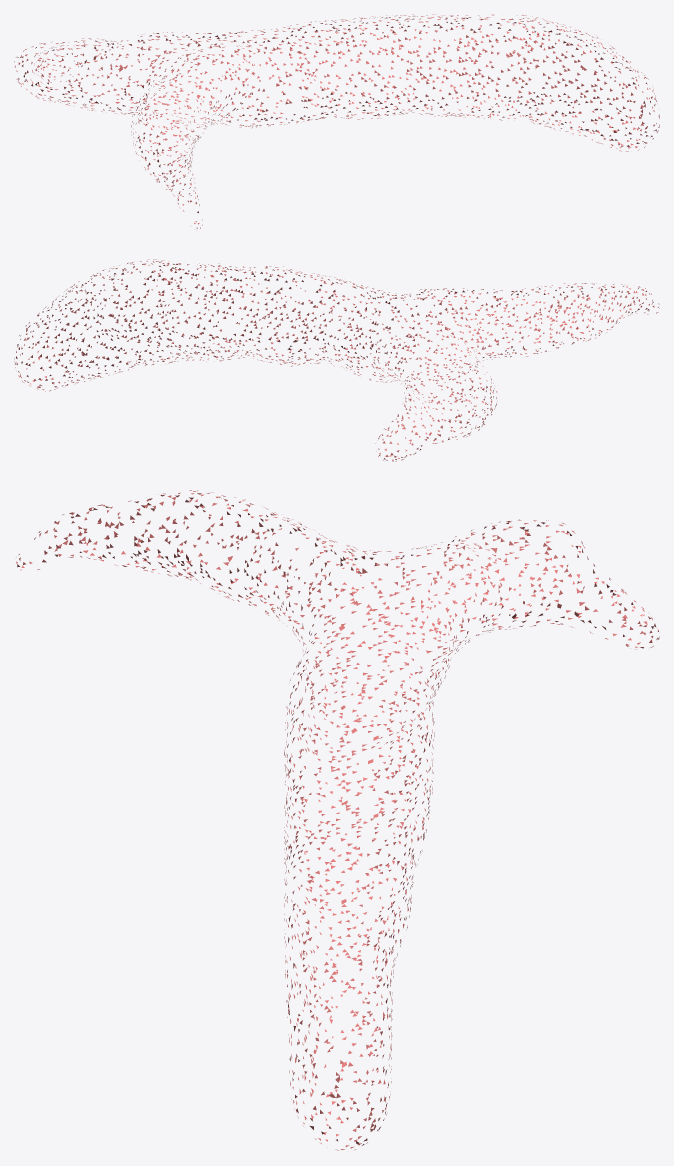
Rendered from morph_000.glb.
3 views of the same model, one above another, from view 1: azimuth 30°, elevation 25°; view 2: azimuth 150°, elevation 25°; view 3: azimuth 270°, elevation 25° (orthographic). The views are drawn at different scales.
Bounding box in the file's own units: 133 × 44.88 × 89.44.
